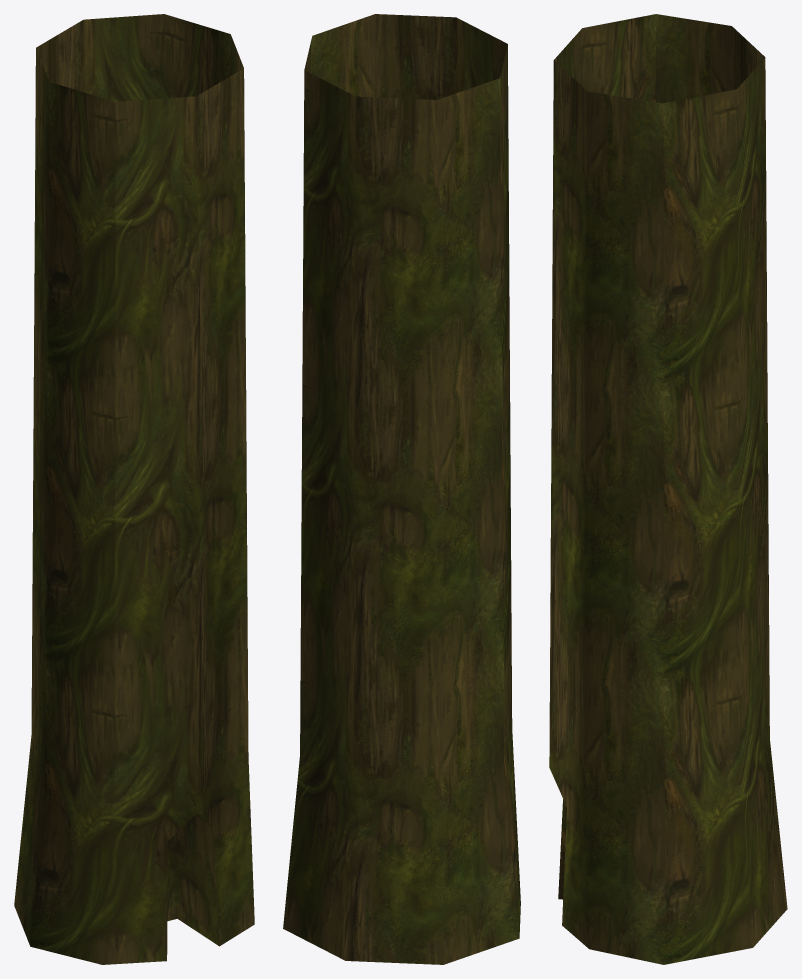
File: plant_yewai_jinglingjushu02.FBX
3 renders of one model, left to right at view 1: azimuth 30°, elevation 25°; view 2: azimuth 150°, elevation 25°; view 3: azimuth 270°, elevation 25°, orthographic.
Visible parts, largest first — view 1: plant_yewai_jinglingjushu02; view 2: plant_yewai_jinglingjushu02; view 3: plant_yewai_jinglingjushu02.
Boxes of the visible parts, x1=… form: plant_yewai_jinglingjushu02: x1=14, y1=14, x2=254, y2=964; plant_yewai_jinglingjushu02: x1=283, y1=14, x2=520, y2=964; plant_yewai_jinglingjushu02: x1=549, y1=14, x2=787, y2=964.
Size of the model in its own units: 11.66 by 10.84 by 42.82.
1 material, 1 textured.
